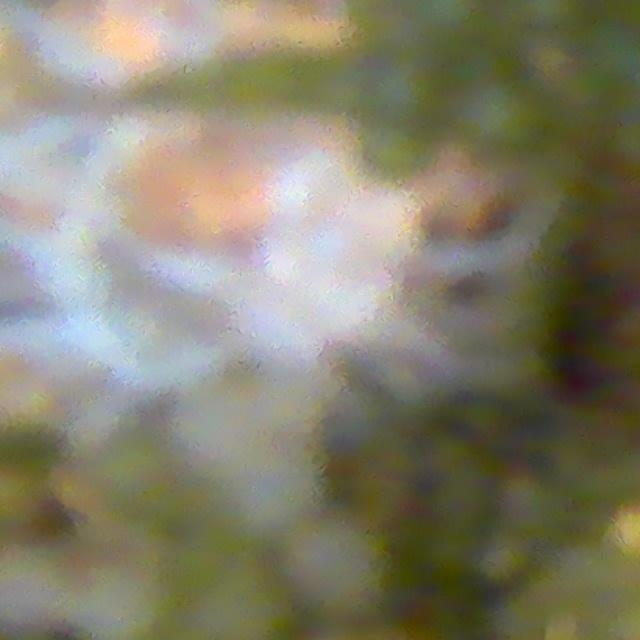SeaGrape: (199, 564, 294, 640), (464, 79, 546, 158)
